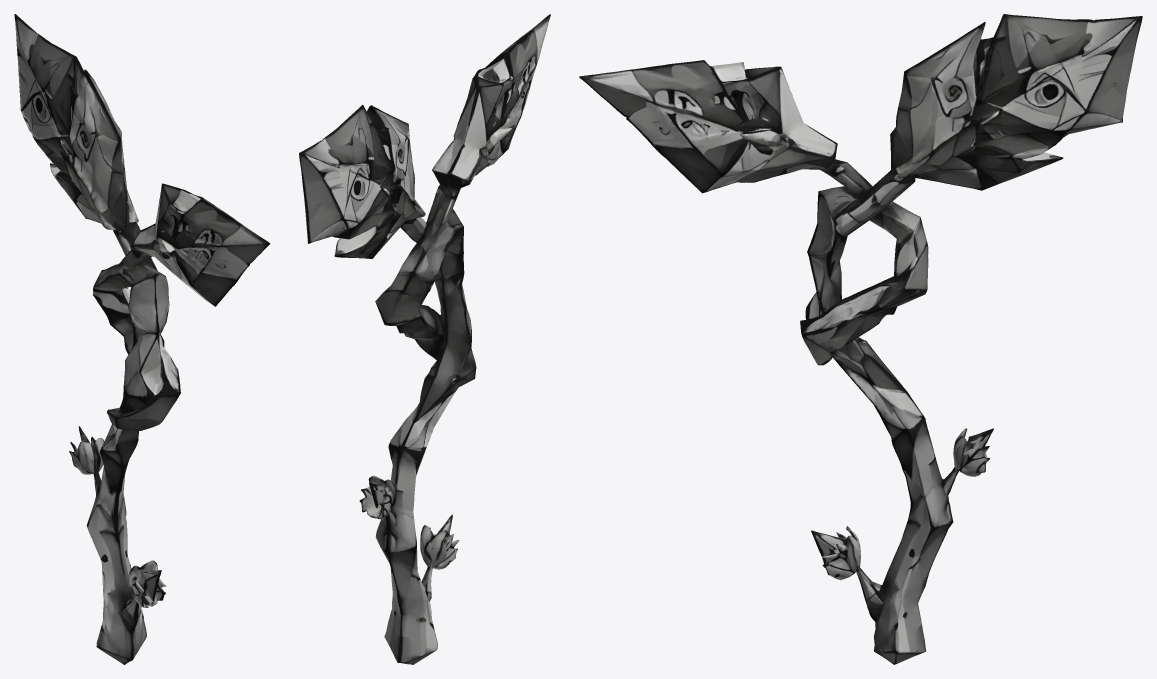
The model's file is geometric+plant+3d+model+1k.glb.
The picture shows the model from 3 angles, left to right: view 1: azimuth 30°, elevation 25°; view 2: azimuth 150°, elevation 25°; view 3: azimuth 270°, elevation 25°; orthographic projection. The views are drawn at different scales.
Visible parts, largest first — view 1: tripo_node_4272fb8c-c5d7-4dc4-929a-646270bb5598; view 2: tripo_node_4272fb8c-c5d7-4dc4-929a-646270bb5598; view 3: tripo_node_4272fb8c-c5d7-4dc4-929a-646270bb5598.
Part boxes in pixels (x1=…): tripo_node_4272fb8c-c5d7-4dc4-929a-646270bb5598: x1=14, y1=14, x2=270, y2=664; tripo_node_4272fb8c-c5d7-4dc4-929a-646270bb5598: x1=299, y1=14, x2=550, y2=664; tripo_node_4272fb8c-c5d7-4dc4-929a-646270bb5598: x1=579, y1=14, x2=1142, y2=664.
Size of the model in its own units: 0.1201 by 1 by 0.785.
1 material, 1 textured.
